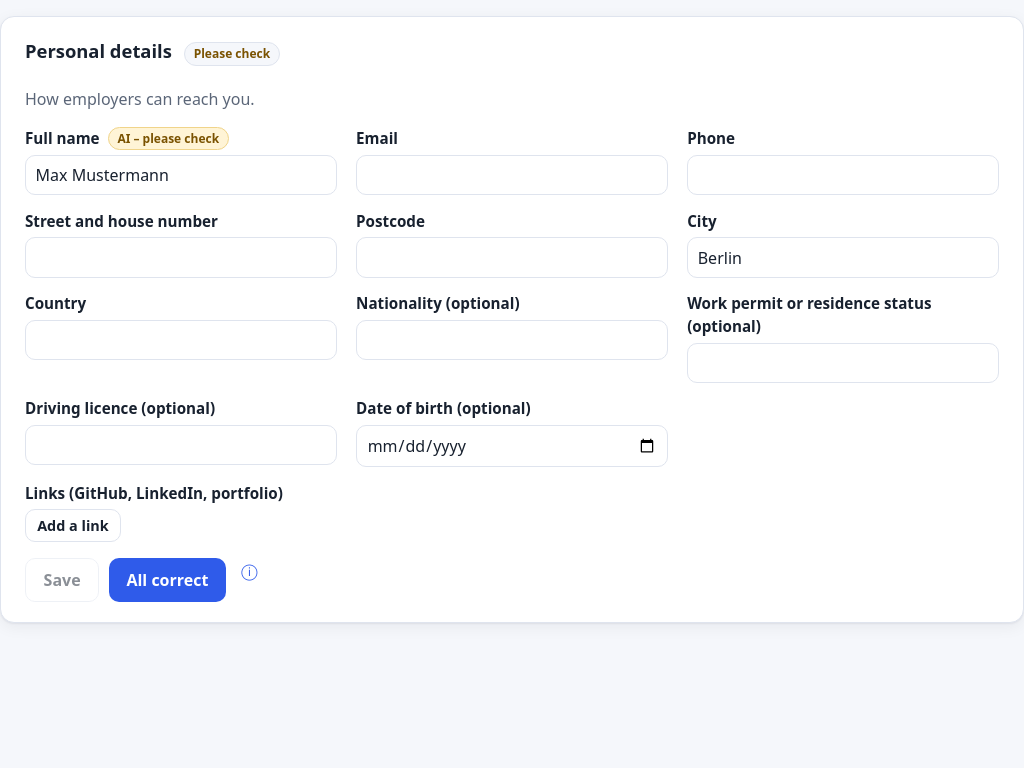
SectionCard › "All correct" saves pending edits first, then confirms
The image size is (1024, 768).
Replace the text in the field labelled "Full name" with "Max" at (181, 175), box [25,155,337,195]
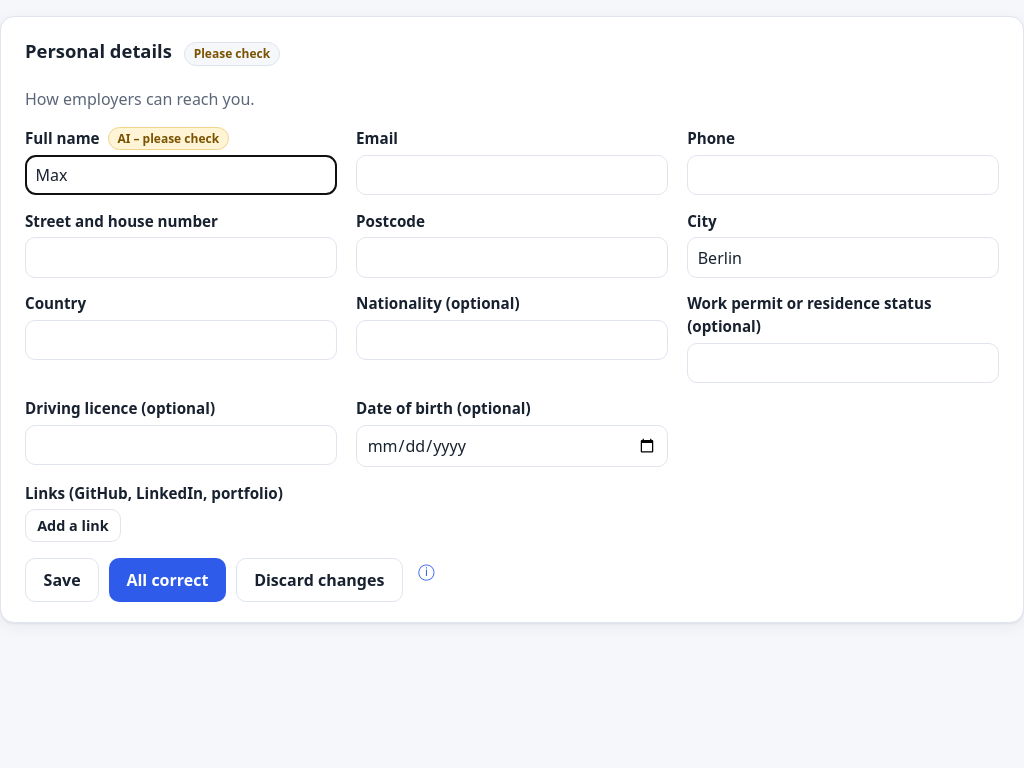
Click the button "All correct" at (167, 580), box [109,558,226,602]
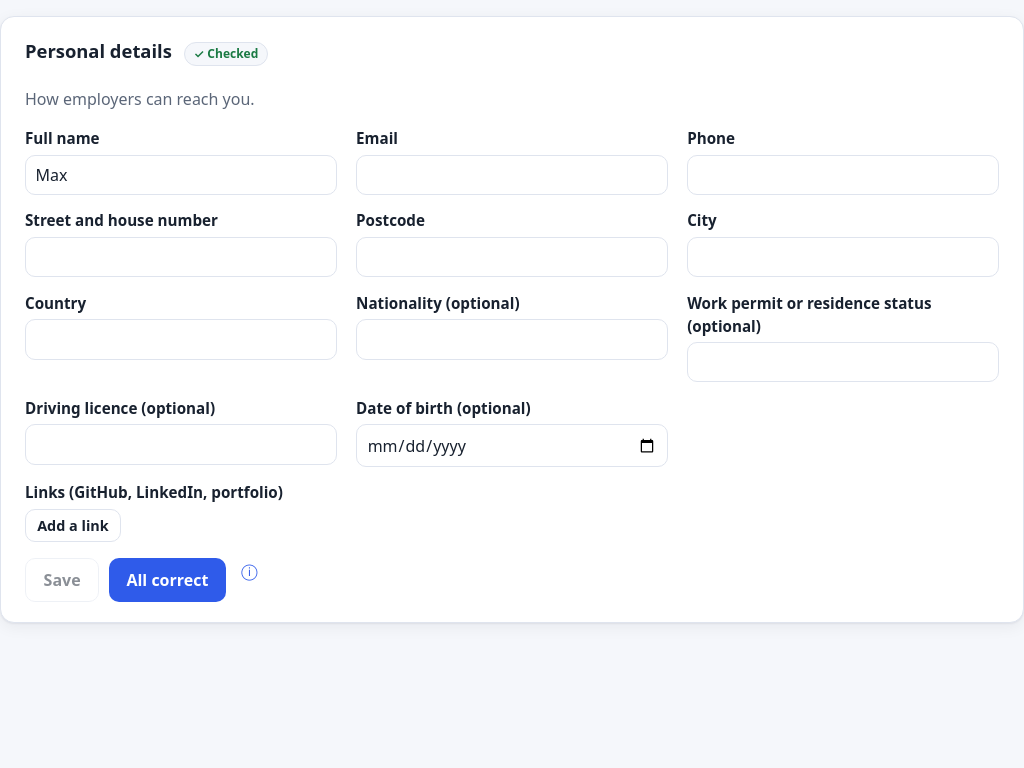
Expected: the text "✓ Checked" is shown, [184,42,268,66]
